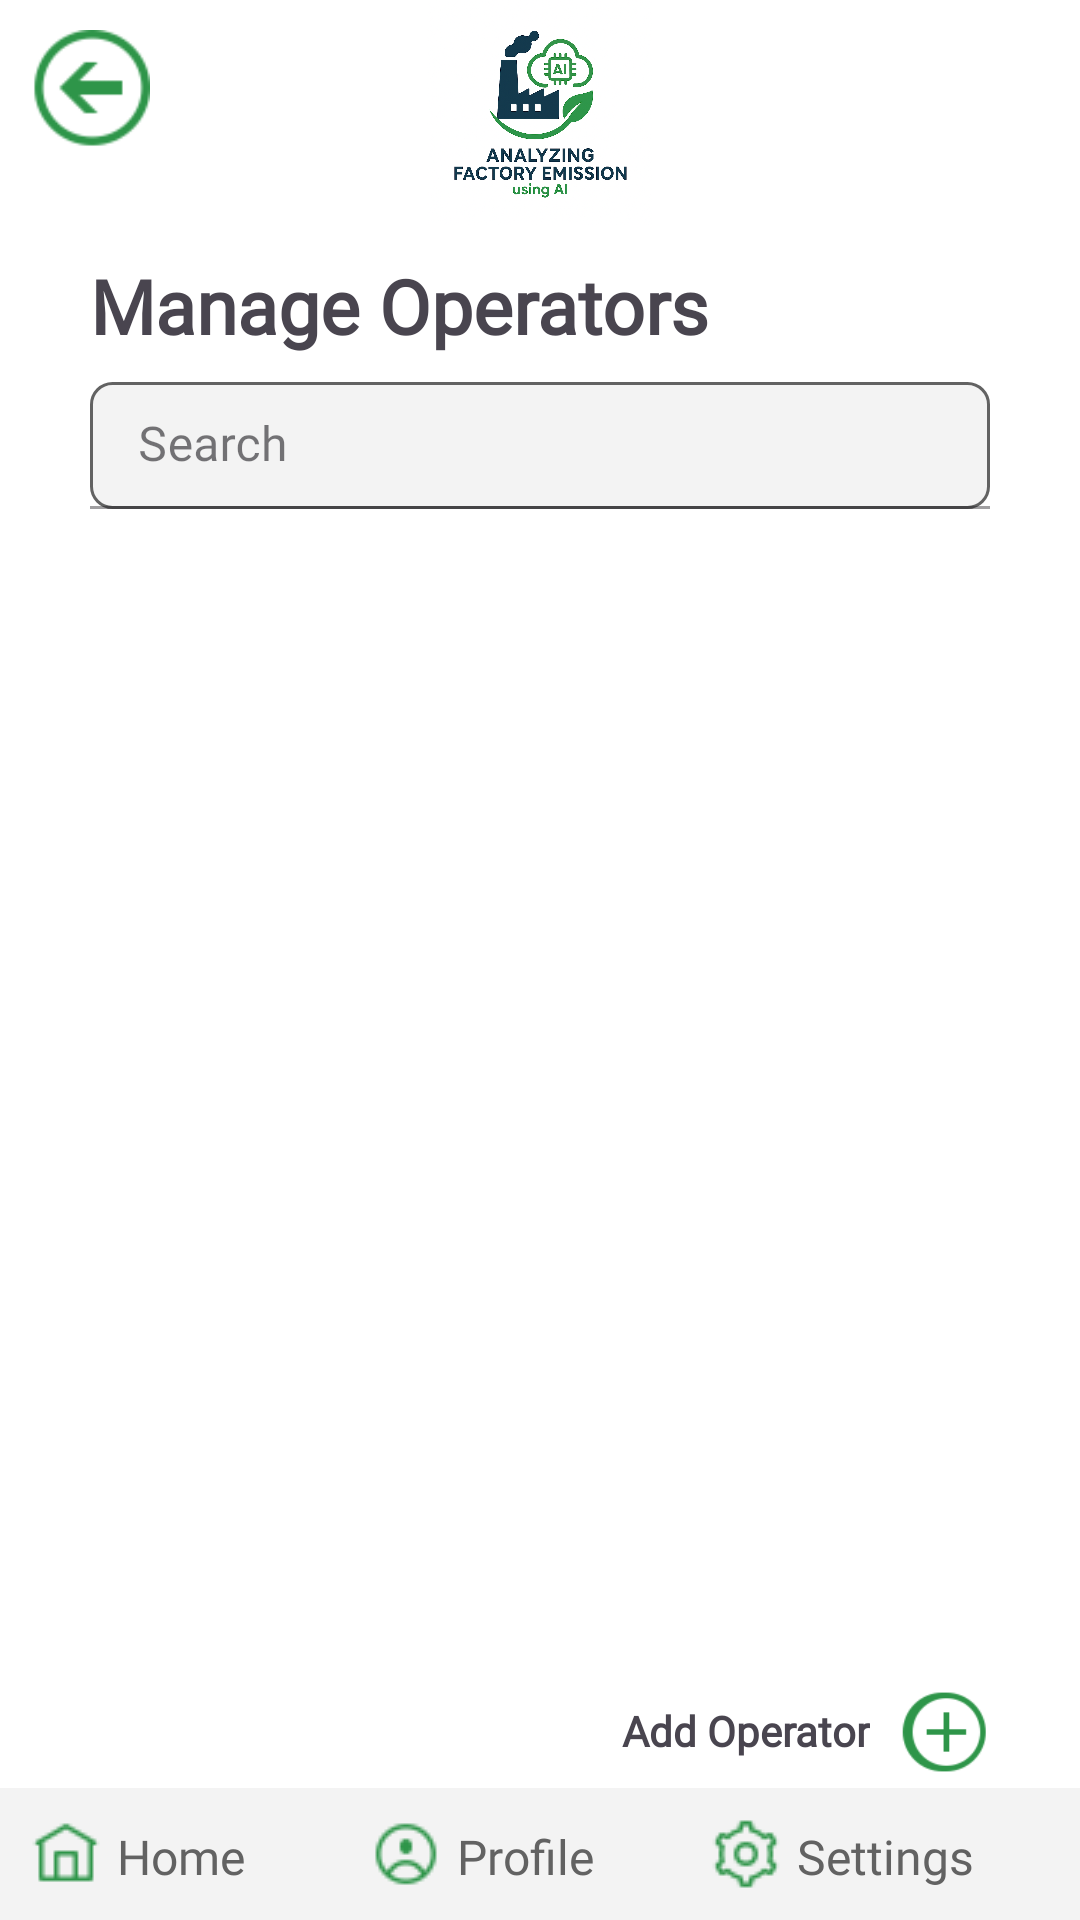

Named icons in this screenshot (1080px×1920px) and their centers, point (x, y):
back: point (92, 88)
